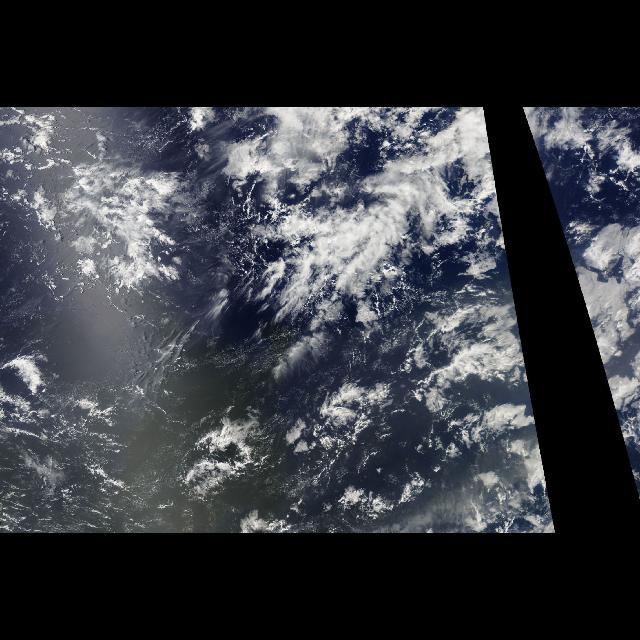Fish: (168, 342, 466, 504)
Flower: (420, 212, 558, 530), (556, 212, 638, 504)
Gravel: (2, 109, 256, 288)
